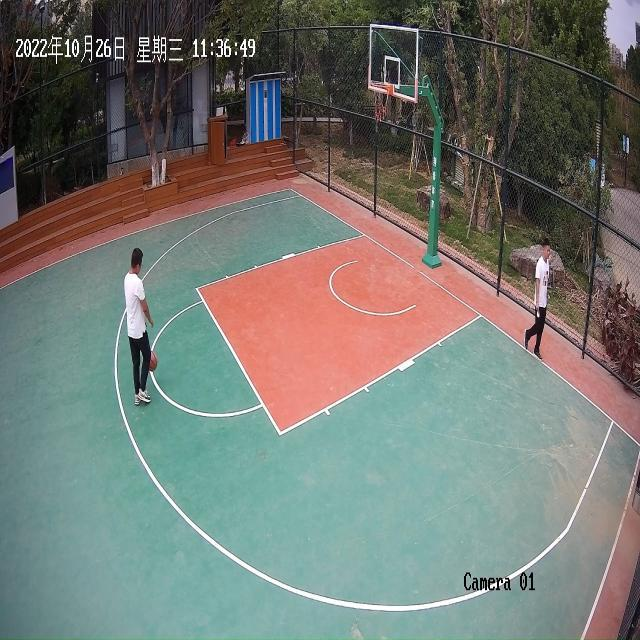basketball: (154, 351, 162, 374)
